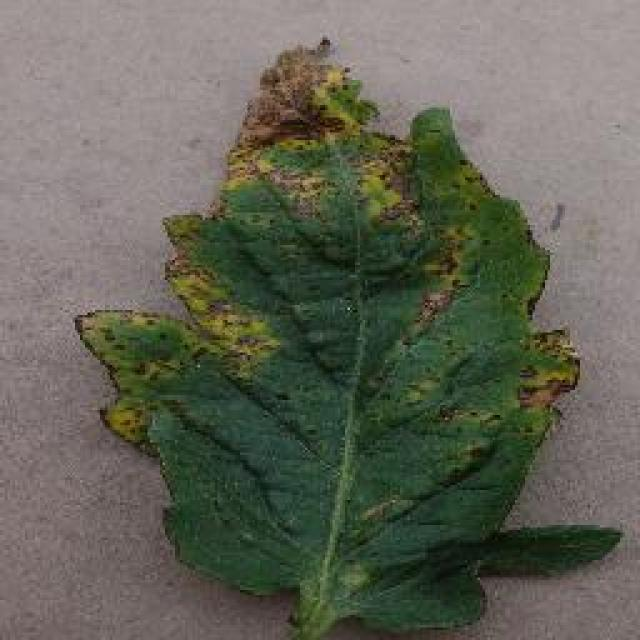Tomato___Bacterial_spot: (66, 32, 632, 638)
